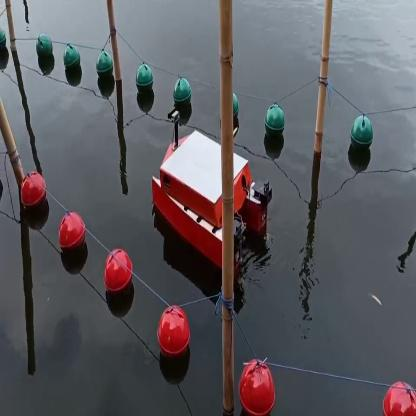green_buoy: (350, 112, 375, 154), (263, 102, 287, 140), (134, 60, 156, 98), (36, 33, 58, 62), (172, 80, 192, 111), (63, 47, 84, 74), (96, 52, 113, 80), (230, 93, 247, 120)
red_buoy: (237, 353, 275, 415), (101, 250, 133, 298), (162, 301, 188, 355), (20, 171, 47, 210), (384, 382, 415, 415), (60, 213, 85, 253)
